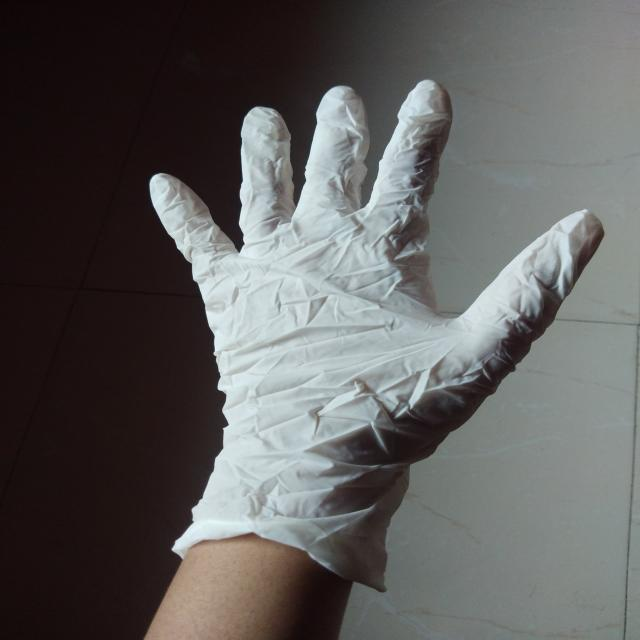glove_hand: (127, 75, 614, 594)
